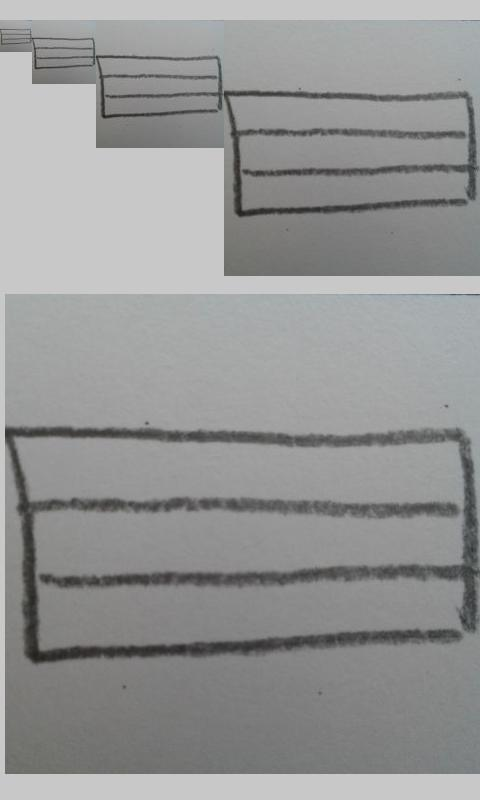list_view: (8, 426, 479, 662), (226, 91, 477, 218), (97, 54, 223, 119), (33, 37, 95, 70), (1, 28, 32, 45)
